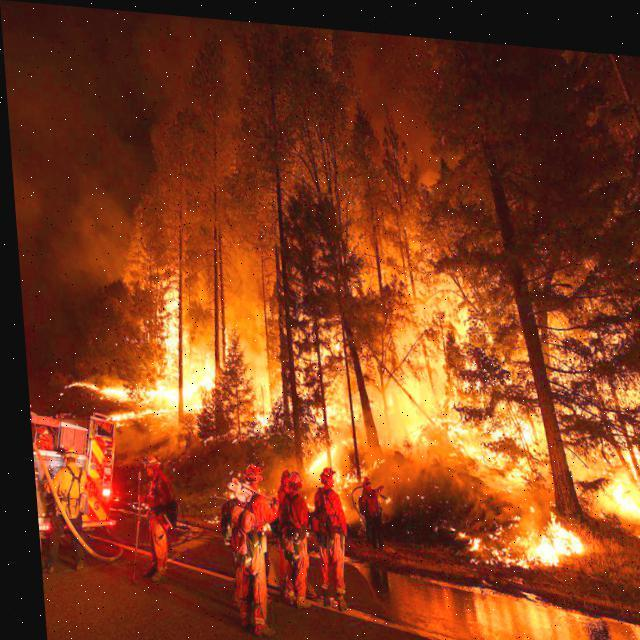Fire: (63, 230, 639, 565)
